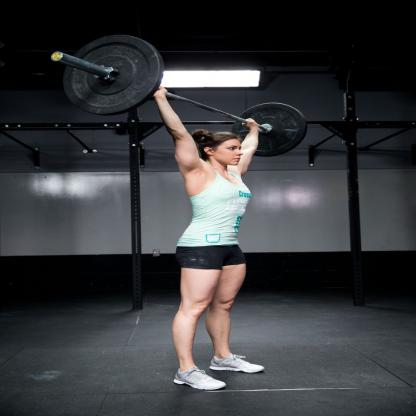Barbell: (46, 29, 168, 116)
